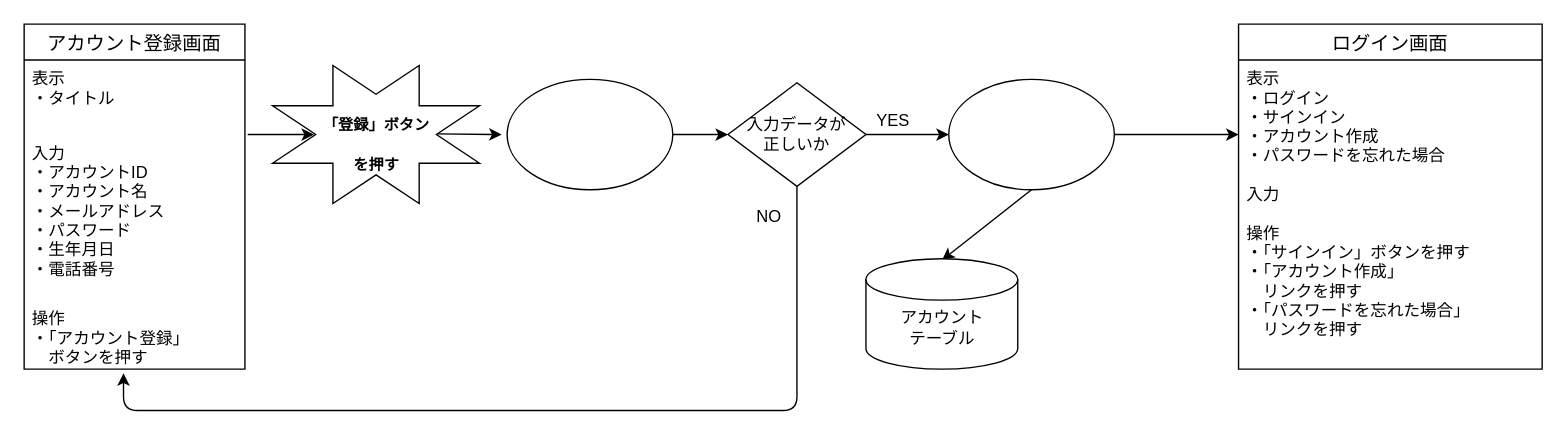
This 1566x446 diagram has some shape labels left out. The shapes that lost their labels are listed below. From the top down, each one's centre as x and y in pixels, then its label:
At pixel 589 134: "アカウント登録 処理をする".
At pixel 1030 134: "アカウントテーブルへ情報を入れる".
